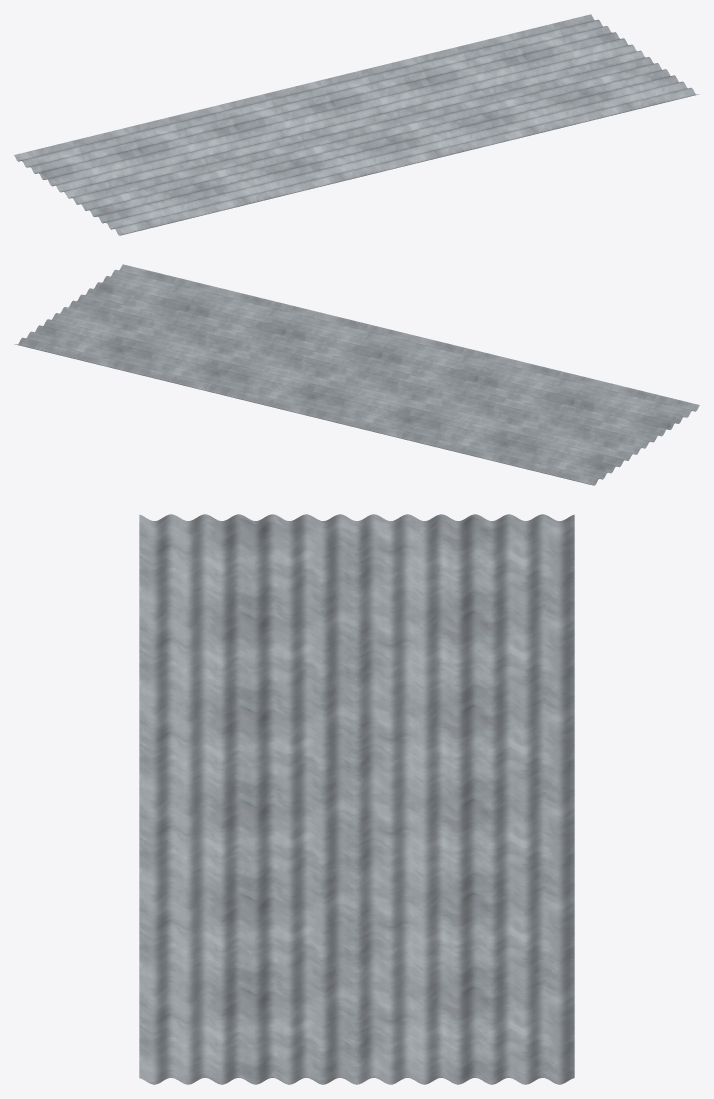
The model's file is COB-MTL-002_lod1.glb.
The picture shows the model from 3 angles, top to bottom: view 1: azimuth 30°, elevation 25°; view 2: azimuth 150°, elevation 25°; view 3: azimuth 270°, elevation 25°; orthographic projection. The views are drawn at different scales.
Visible parts, largest first — view 1: COB-MTL-002_chapa; view 2: COB-MTL-002_chapa; view 3: COB-MTL-002_chapa.
Part boxes in pixels (box(x1,y1,x2,y2)): COB-MTL-002_chapa: box(14, 14, 699, 235); COB-MTL-002_chapa: box(14, 264, 699, 485); COB-MTL-002_chapa: box(139, 514, 574, 1084).
Size of the model in its own units: 3 by 0.0176 by 0.98.
1 material, 1 textured.
